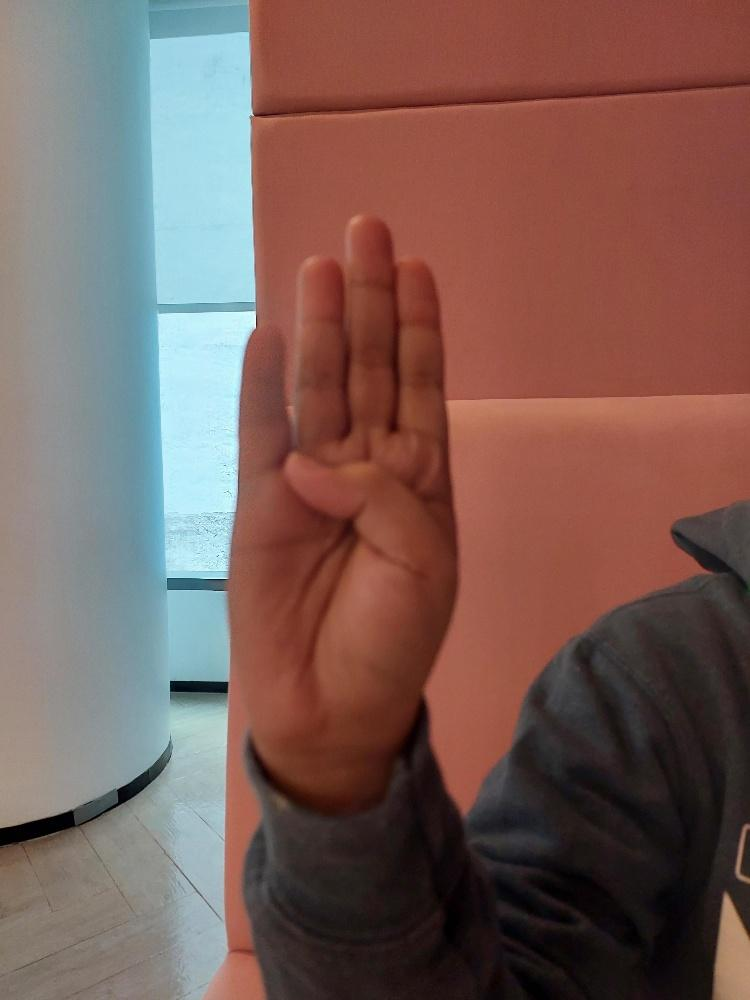b: (217, 205, 469, 765)
